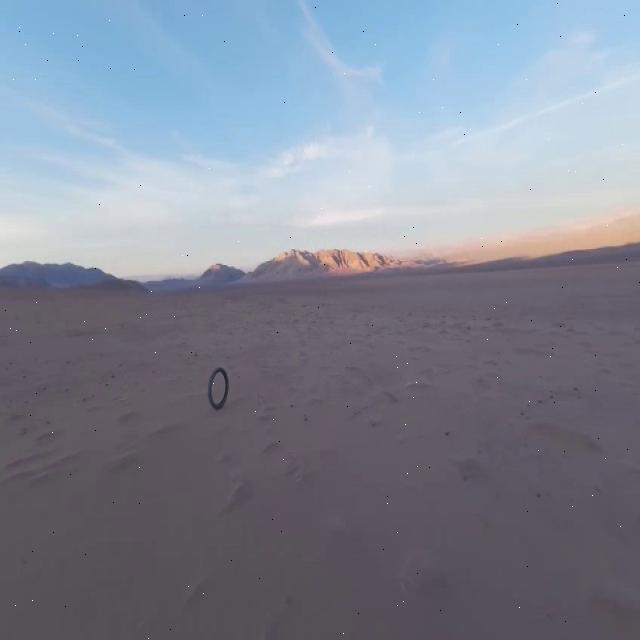Tire: (208, 367, 229, 408)
